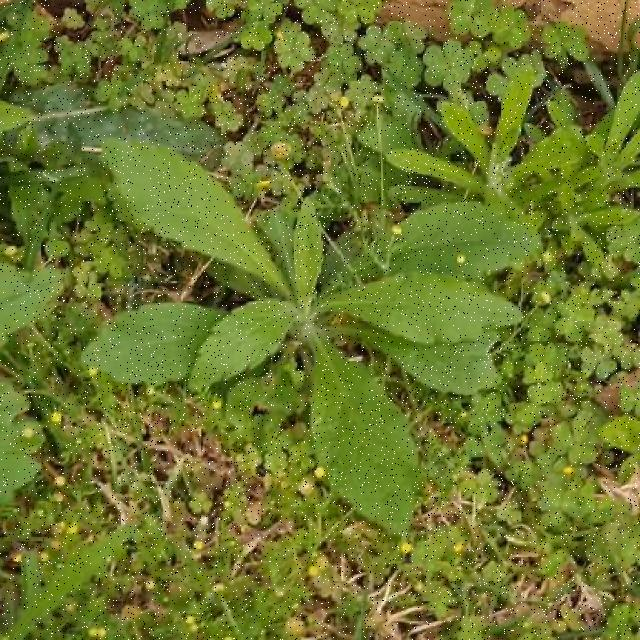weed: (85, 142, 540, 536)
